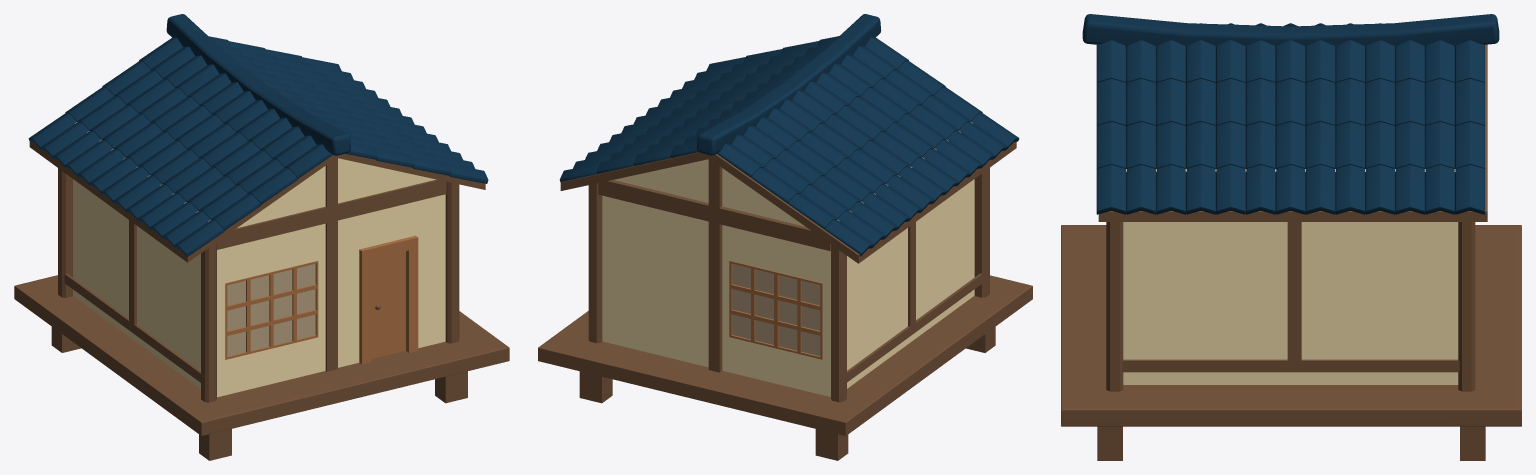
File: House_1.fbx
The picture shows the model from 3 angles, left to right: view 1: azimuth 30°, elevation 25°; view 2: azimuth 150°, elevation 25°; view 3: azimuth 270°, elevation 25°; orthographic projection. The views are drawn at different scales.
Visible parts, largest first — view 1: House_1; view 2: House_1; view 3: House_1.
Part boxes in pixels (<box>): House_1: <box>14,14,509,460</box>; House_1: <box>538,14,1032,460</box>; House_1: <box>1061,14,1521,460</box>.
Size of the model in its own units: 6494 by 5922 by 6780.
